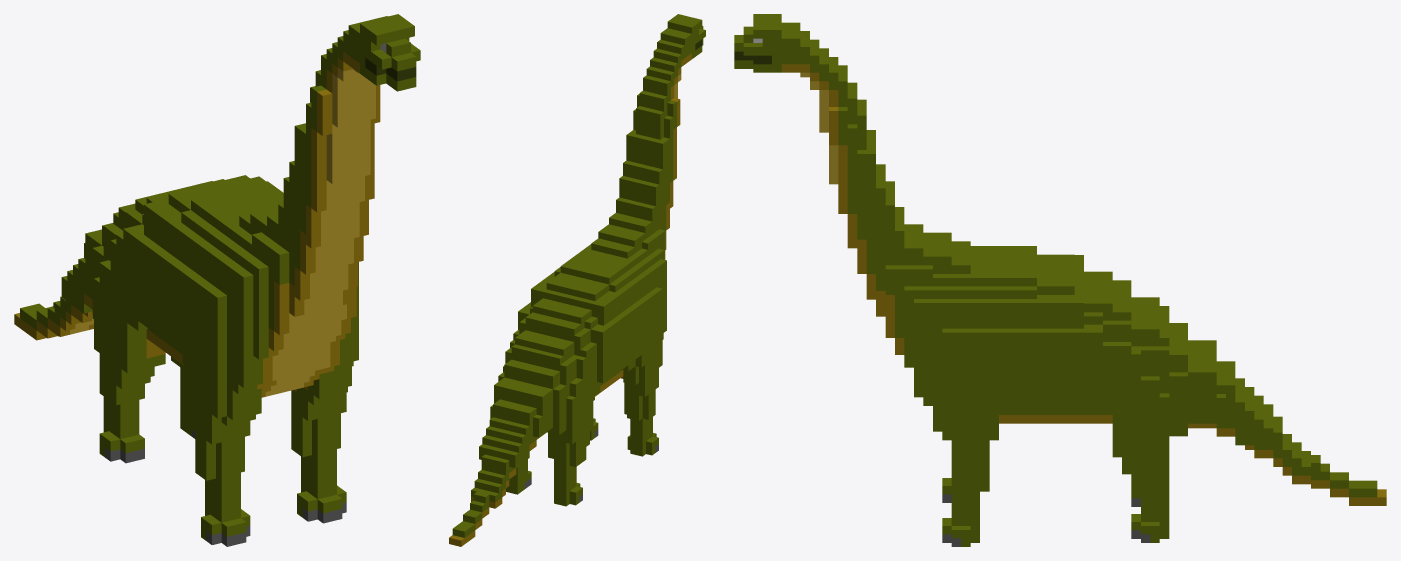
The model's file is bronto.fbx.
3 renders of one model, left to right at view 1: azimuth 30°, elevation 25°; view 2: azimuth 150°, elevation 25°; view 3: azimuth 270°, elevation 25°, orthographic. The views are drawn at different scales.
Visible parts, largest first — view 1: bronto; view 2: bronto; view 3: bronto.
Part boxes in pixels (bbox=[...]): bronto: bbox=[14, 14, 420, 546]; bronto: bbox=[449, 14, 705, 546]; bronto: bbox=[734, 14, 1386, 546].
Bounding box in the file's own units: 14 × 58 × 69.
